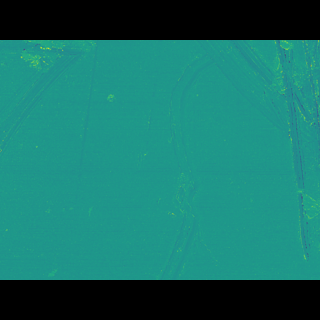Loch: (189, 68, 320, 237), (154, 76, 221, 250), (0, 69, 92, 159), (70, 71, 101, 203)
